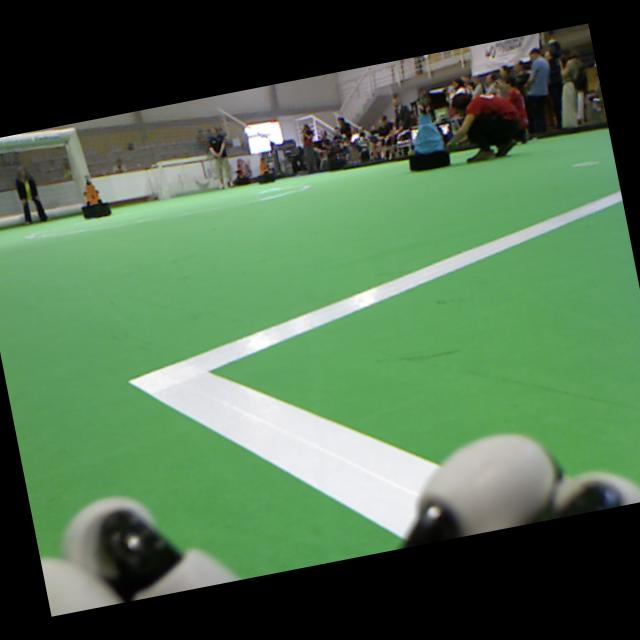goal: (157, 162, 164, 199)
robot: (81, 175, 111, 219), (260, 157, 274, 183), (235, 164, 248, 186)
